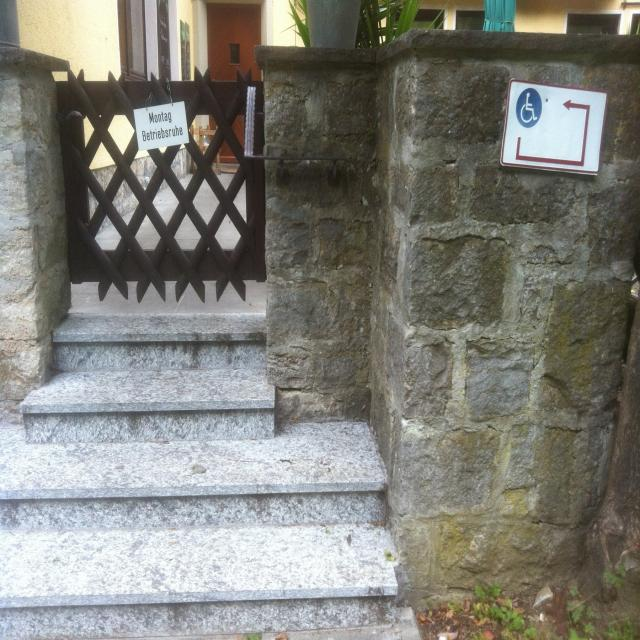AVOID: (1, 328, 395, 634)
